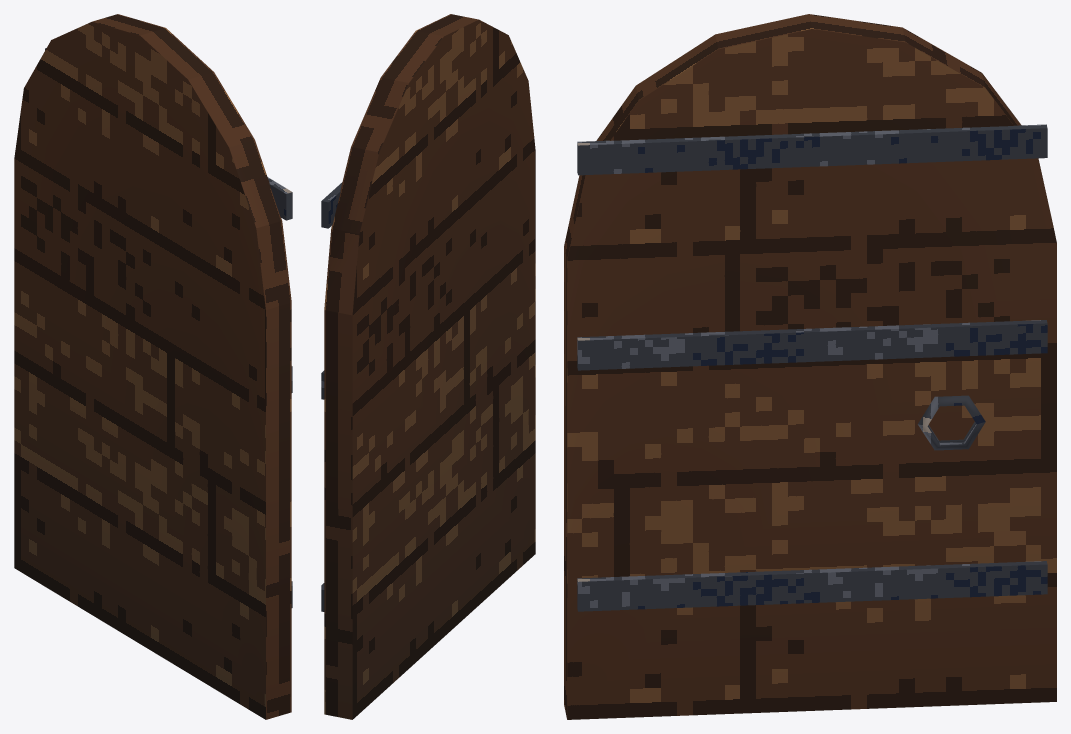
Rendered from dgn.door_locked__locked_open.glb.
3 views of the same model, side by side, from view 1: azimuth 30°, elevation 25°; view 2: azimuth 150°, elevation 25°; view 3: azimuth 270°, elevation 25° (orthographic). The views are drawn at different scales.
Parts seen in each view (by area): view 1: kit_leaf; view 2: kit_leaf; view 3: kit_leaf.
Boxes of the visible parts, x1=… form: kit_leaf: x1=14, y1=14, x2=292, y2=719; kit_leaf: x1=321, y1=14, x2=535, y2=719; kit_leaf: x1=564, y1=14, x2=1056, y2=719.
Bounding box in the file's own units: 0.3374 × 2.97 × 1.94.
2 materials, 2 textured.
